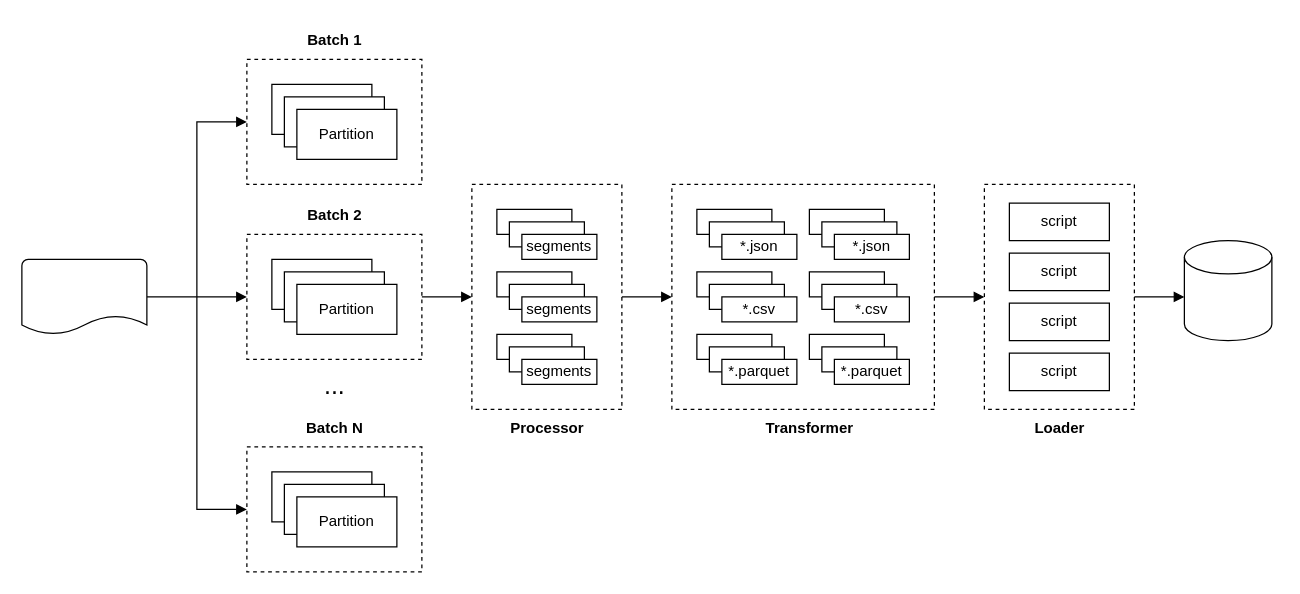
Image size: 1300x594. Some labels were removed from this diagram. Here are the shapes that lost their labels. From the top down, the box of each, then its label:
(21, 258, 147, 334): CSV File
(1183, 239, 1272, 341): Data Store
